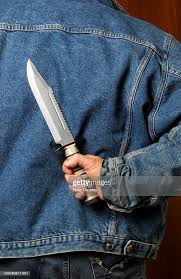weapon-unusual: (17, 50, 112, 209)
